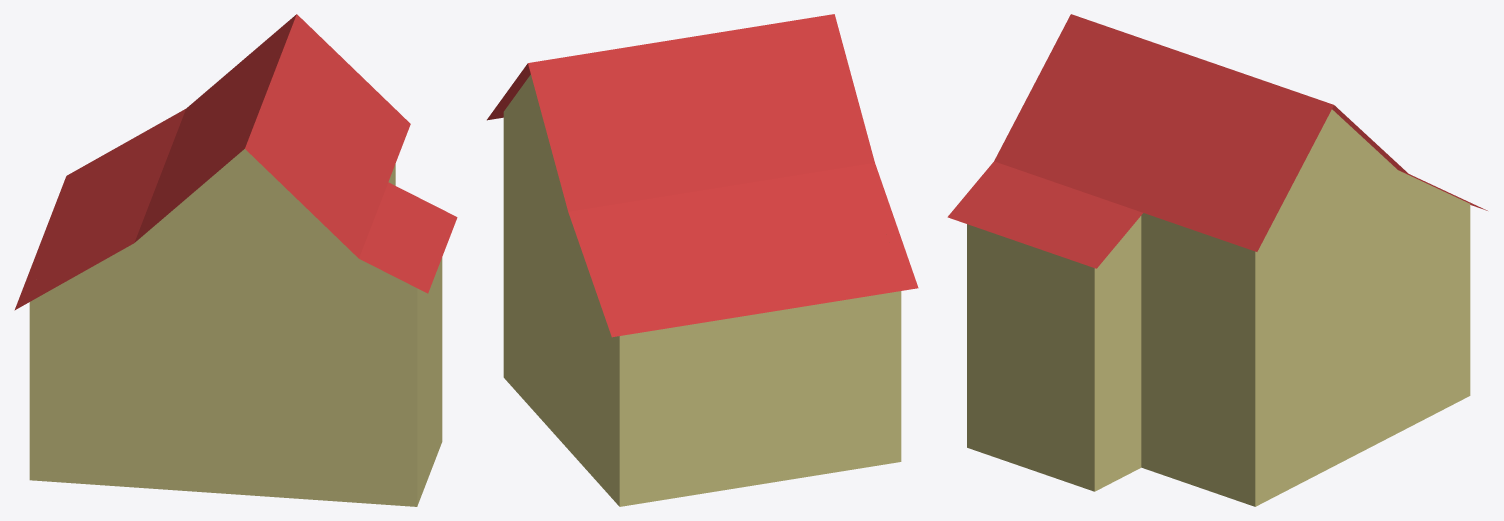
3 renders of one model, left to right at view 1: azimuth 30°, elevation 25°; view 2: azimuth 150°, elevation 25°; view 3: azimuth 270°, elevation 25°, orthographic. The views are drawn at different scales.
Size of the model in its own units: 17.97 by 19.51 by 14.71.
